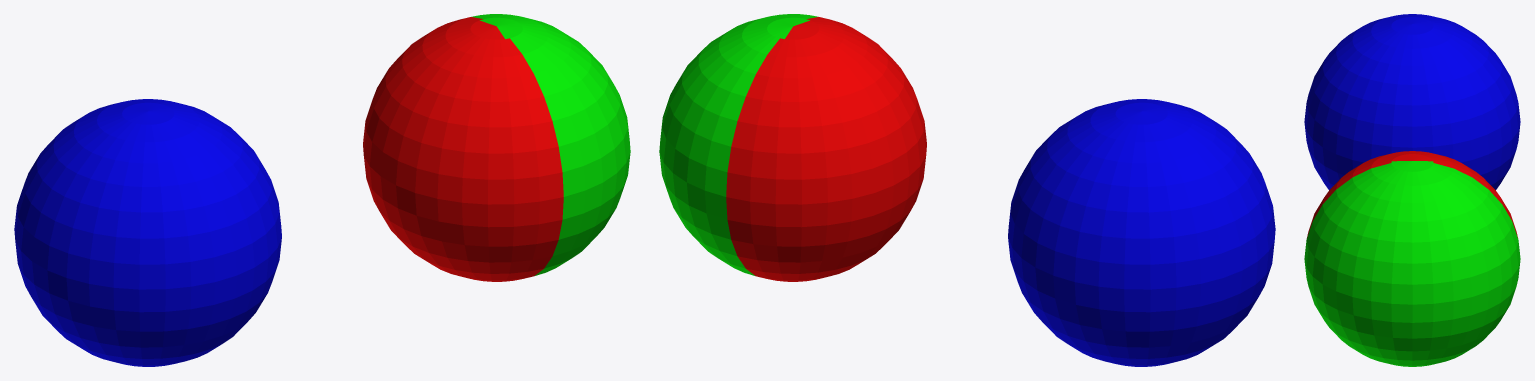
Rendered from cube.cam.dae.
3 renders of one model, left to right at view 1: azimuth 30°, elevation 25°; view 2: azimuth 150°, elevation 25°; view 3: azimuth 270°, elevation 25°, orthographic. The views are drawn at different scales.
Parts seen in each view (by area): view 1: Sphere_001, Sphere; view 2: Sphere_001, Sphere; view 3: Sphere_001, Sphere.
Part boxes in pixels (bbox=[...]): Sphere_001: bbox=[363, 14, 630, 281]; Sphere: bbox=[14, 99, 281, 366]; Sphere_001: bbox=[659, 14, 926, 281]; Sphere: bbox=[1008, 99, 1275, 366]; Sphere_001: bbox=[1304, 151, 1520, 366]; Sphere: bbox=[1304, 14, 1520, 189].
Bounding box in the file's own units: 5 × 2 × 2.
